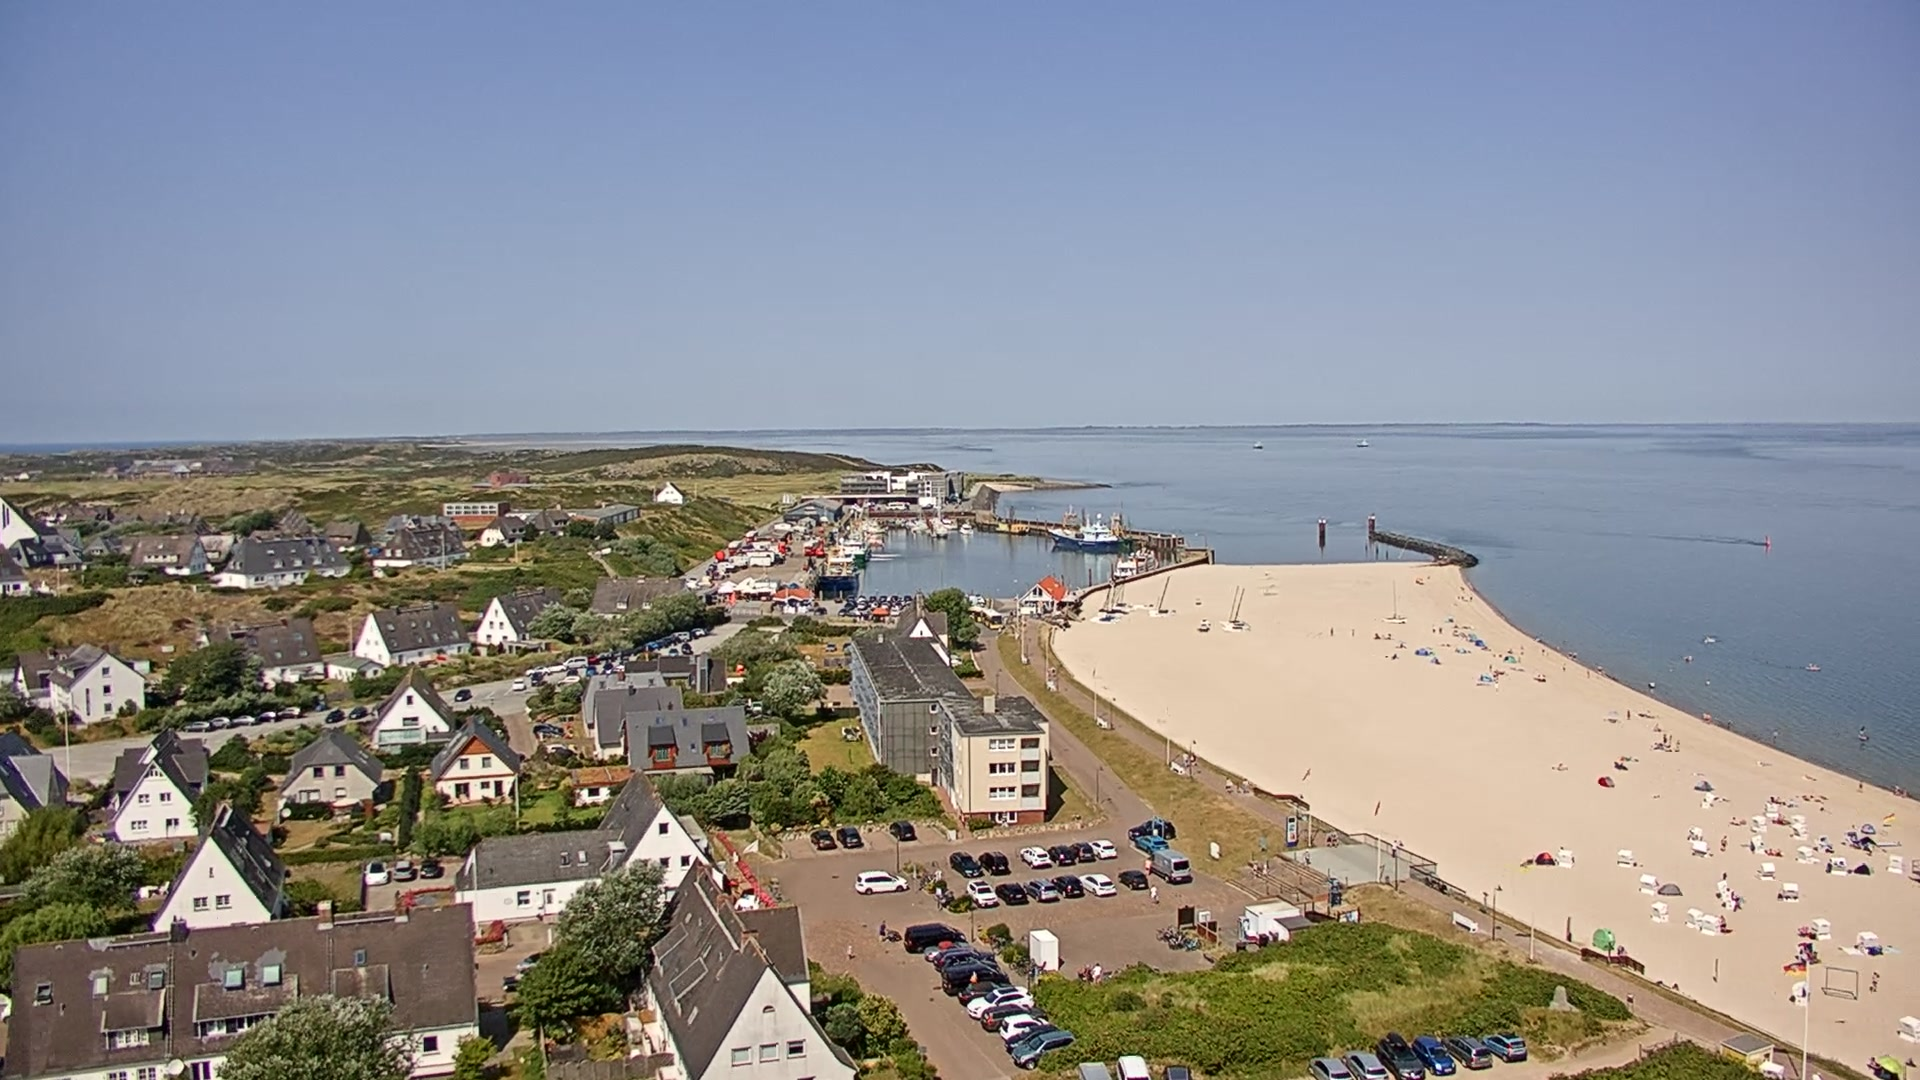human: (1089, 961, 1103, 985), (1333, 879, 1345, 905), (1149, 884, 1160, 904), (878, 917, 887, 943), (1606, 929, 1616, 952), (1224, 774, 1234, 794), (1717, 913, 1728, 932), (1871, 971, 1881, 991), (1720, 834, 1729, 852), (1241, 777, 1250, 794), (1724, 886, 1732, 906), (1303, 848, 1311, 866), (1626, 991, 1634, 1010), (846, 941, 854, 959), (1182, 750, 1189, 766), (1392, 839, 1399, 857), (1858, 724, 1866, 737), (1894, 783, 1901, 795), (1332, 833, 1338, 847), (1858, 780, 1864, 792), (1326, 835, 1332, 847), (1431, 622, 1436, 633), (1350, 626, 1355, 637), (1329, 625, 1334, 636), (1626, 708, 1631, 719), (1488, 663, 1493, 671), (1562, 663, 1566, 672), (1586, 669, 1590, 678), (1541, 648, 1546, 655)
land: (1009, 1030, 1076, 1070), (1372, 1029, 1424, 1079), (966, 986, 1034, 1020), (902, 920, 967, 953), (980, 1004, 1049, 1032), (942, 966, 1009, 995), (1411, 1034, 1457, 1076), (1440, 1034, 1494, 1070), (1145, 847, 1192, 883), (1480, 1028, 1529, 1063), (956, 980, 1014, 1006), (1339, 1048, 1387, 1079), (998, 1012, 1048, 1040), (1004, 1023, 1058, 1050), (853, 870, 909, 896), (924, 936, 975, 962), (932, 949, 994, 969), (940, 957, 1002, 977), (1127, 816, 1175, 840), (1306, 1055, 1353, 1079), (947, 849, 983, 878), (966, 879, 999, 910), (1076, 873, 1116, 897), (1021, 879, 1057, 904), (1116, 1054, 1152, 1079), (1048, 875, 1084, 899), (978, 850, 1012, 876), (993, 881, 1026, 906), (363, 859, 390, 886), (1019, 845, 1051, 869), (1116, 869, 1148, 891), (1134, 833, 1170, 853), (835, 825, 864, 849), (1046, 844, 1076, 866), (1086, 839, 1117, 860), (1158, 1063, 1195, 1080), (889, 820, 917, 842), (1066, 841, 1094, 863), (809, 829, 836, 851), (391, 859, 416, 882), (419, 857, 441, 879), (532, 722, 565, 736), (562, 654, 588, 669), (181, 719, 212, 731), (229, 714, 257, 726), (545, 742, 578, 753), (204, 715, 231, 727), (275, 705, 302, 718), (936, 890, 954, 907), (524, 664, 551, 675), (541, 662, 568, 673), (323, 708, 343, 722), (254, 710, 276, 722), (727, 539, 743, 556), (348, 705, 368, 719), (744, 529, 759, 545), (454, 688, 472, 702), (557, 675, 581, 685), (690, 627, 706, 638), (771, 600, 787, 612), (599, 647, 614, 660), (641, 641, 658, 651), (512, 677, 526, 689), (530, 672, 544, 685), (585, 652, 600, 663), (321, 685, 327, 710), (680, 644, 695, 654), (787, 598, 800, 608), (674, 631, 690, 640), (603, 663, 614, 674), (814, 605, 827, 615), (586, 664, 597, 674), (566, 668, 579, 677), (800, 598, 811, 606), (856, 600, 866, 609), (668, 648, 678, 658), (657, 634, 674, 640), (846, 594, 856, 602), (857, 594, 867, 602), (890, 606, 899, 616), (843, 602, 852, 610), (837, 609, 847, 617), (890, 594, 899, 601), (848, 599, 857, 606), (904, 594, 912, 600), (879, 594, 888, 600), (881, 601, 889, 608), (834, 597, 843, 603), (870, 595, 877, 601), (871, 602, 879, 608), (895, 600, 902, 605)
sea: (1043, 497, 1133, 553), (815, 540, 860, 594), (1112, 541, 1160, 579), (831, 524, 869, 567), (1221, 581, 1251, 631), (1089, 575, 1120, 623), (1380, 575, 1409, 624), (1146, 574, 1177, 616), (1095, 574, 1125, 615), (931, 485, 951, 538), (994, 519, 1032, 535), (904, 514, 930, 532), (933, 514, 959, 530), (1354, 436, 1371, 448), (1805, 663, 1822, 672), (961, 523, 975, 535), (1252, 440, 1264, 448)
